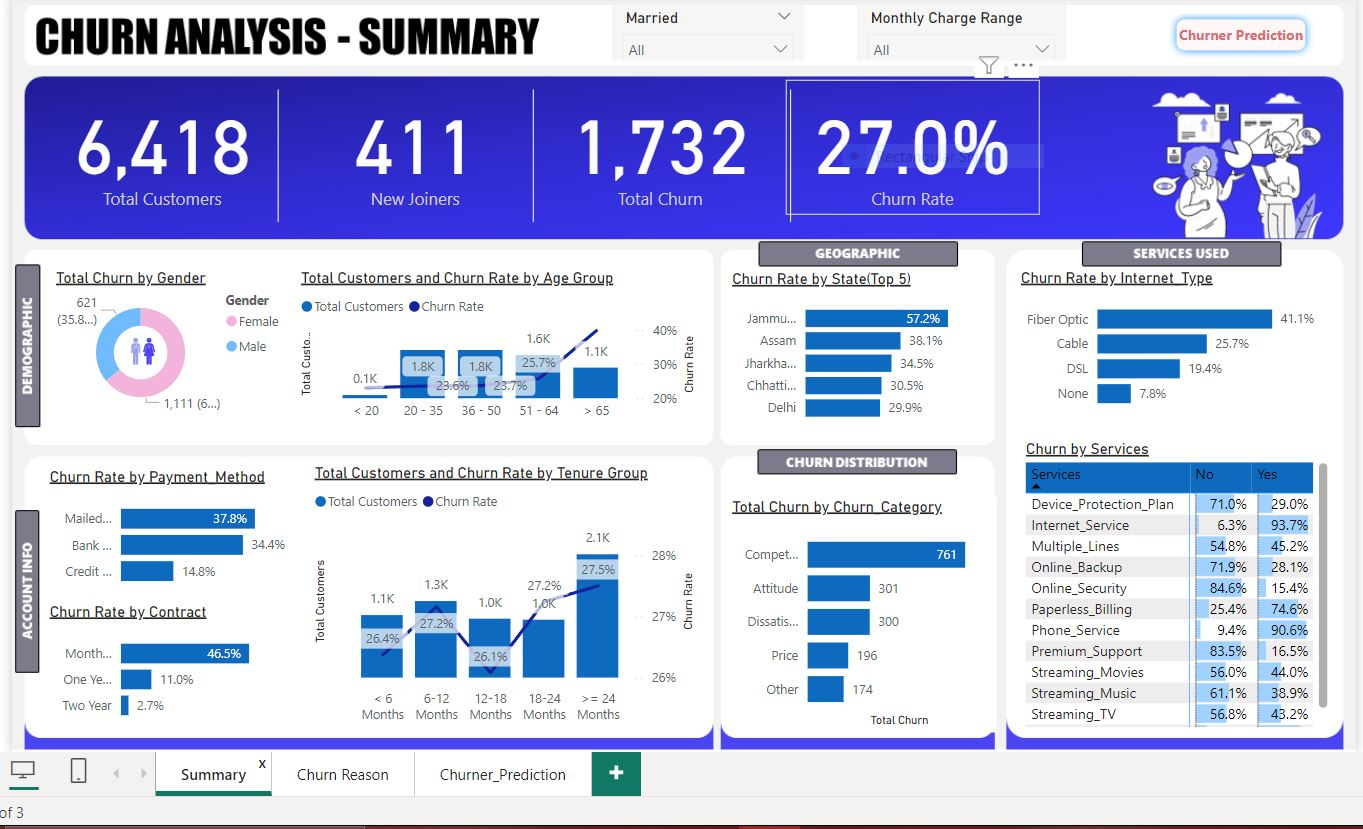

This screenshot's page, from the dashboard's own definition file:
{"tool":"powerbi","page":{"name":"Summary","canvas":[1280,720],"ordinal":0},"visuals":[{"type":"image","box":[611.9,317.5,56.2,42.5],"z":0},{"type":"card","fields":{"Values":["Measure_tble.Total Customers"]},"box":[45.3,79.6,196.2,129],"z":1000},{"type":"card","fields":{"Values":["Measure_tble.New Joiners"]},"box":[297.8,79.6,172.9,129],"z":2000},{"type":"card","fields":{"Values":["Measure_tble.Total Churn"]},"box":[521.4,79.6,192.1,129],"z":3000},{"type":"card","fields":{"Values":["Measure_tble.Churn Rate"]},"box":[736.9,79.6,241.5,129],"z":4000},{"type":"donutChart","fields":{"Category":["prod_Churn.Gender"],"Y":["Measure_tble.Total Churn"]},"box":[37.5,260,232.5,143.8],"z":5000},{"type":"lineStackedColumnComboChart","fields":{"Category":["Mapping_AgeGRP.Age Group"],"Y":["Measure_tble.Total Customers"],"Y2":["Measure_tble.Churn Rate"]},"box":[270,260,386.2,153.8],"z":6000},{"type":"clusteredBarChart","fields":{"Category":["prod_Churn.Payment_Method"],"Y":["Measure_tble.Churn Rate"]},"box":[31.4,449.2,239,124.6],"z":7000},{"type":"clusteredBarChart","fields":{"Category":["prod_Churn.Contract"],"Y":["Measure_tble.Churn Rate"]},"box":[31.4,577.1,239,123.7],"z":8000},{"type":"lineStackedColumnComboChart","fields":{"Category":["Mapping_TenureGRP.Tenure Group"],"Y":["Measure_tble.Total Customers"],"Y2":["Measure_tble.Churn Rate"]},"box":[283.9,445.8,372,255.1],"z":9000},{"type":"clusteredBarChart","title":"Churn Rate by State(Top 5)","fields":{"Category":["prod_Churn.State"],"Y":["Measure_tble.Churn Rate"]},"box":[680.5,260.2,249.2,154.2],"z":10000},{"type":"clusteredBarChart","fields":{"Category":["prod_Churn.Churn_Category"],"Y":["Measure_tble.Total Churn"]},"box":[680.5,477.1,256.8,223.7],"z":11000},{"type":"clusteredBarChart","fields":{"Category":["prod_Churn.Internet_Type"],"Y":["Measure_tble.Churn Rate"]},"box":[956.2,260,295,143.8],"z":12000},{"type":"pivotTable","title":"Churn by Services ","fields":{"Rows":["prod_services.Services"],"Columns":["prod_services.Status"],"Values":["Sum(prod_services.Churn Status)"]},"box":[961.2,422.5,297.5,278.8],"z":13000},{"type":"slicer","fields":{"Values":["prod_Churn.Monthly Charge Range"]},"box":[804.5,6.8,198.9,54.5],"z":14000},{"type":"image","box":[85,316.2,80,42.5],"z":15000},{"type":"slicer","fields":{"Values":["prod_Churn.Married"]},"box":[571.6,6.8,183,54.5],"z":16000},{"type":"shape","box":[1101.1,14.8,138.6,45.5],"z":17000}]}

Visuals, with their boxes on the page's 1280x720 design canvas (x1, y1, x2, y2). These are canvas units, not pixel positions in the 1363x829 screenshot, which may show the page scaled, cropped or inside an application window:
image: select_region(612, 318, 668, 360)
card - Measure_tble.Total Customers: select_region(45, 80, 242, 209)
card - Measure_tble.New Joiners: select_region(298, 80, 471, 209)
card - Measure_tble.Total Churn: select_region(521, 80, 714, 209)
card - Measure_tble.Churn Rate: select_region(737, 80, 978, 209)
donutChart - prod_Churn.Gender x Measure_tble.Total Churn: select_region(38, 260, 270, 404)
lineStackedColumnComboChart - Mapping_AgeGRP.Age Group x Measure_tble.Total Customers: select_region(270, 260, 656, 414)
clusteredBarChart - prod_Churn.Payment_Method x Measure_tble.Churn Rate: select_region(31, 449, 270, 574)
clusteredBarChart - prod_Churn.Contract x Measure_tble.Churn Rate: select_region(31, 577, 270, 701)
lineStackedColumnComboChart - Mapping_TenureGRP.Tenure Group x Measure_tble.Total Customers: select_region(284, 446, 656, 701)
"Churn Rate by State(Top 5)" clusteredBarChart: select_region(680, 260, 930, 414)
clusteredBarChart - prod_Churn.Churn_Category x Measure_tble.Total Churn: select_region(680, 477, 937, 701)
clusteredBarChart - prod_Churn.Internet_Type x Measure_tble.Churn Rate: select_region(956, 260, 1251, 404)
"Churn by Services " pivotTable: select_region(961, 422, 1259, 701)
slicer - prod_Churn.Monthly Charge Range: select_region(804, 7, 1003, 61)
image: select_region(85, 316, 165, 359)
slicer - prod_Churn.Married: select_region(572, 7, 755, 61)
shape: select_region(1101, 15, 1240, 60)
